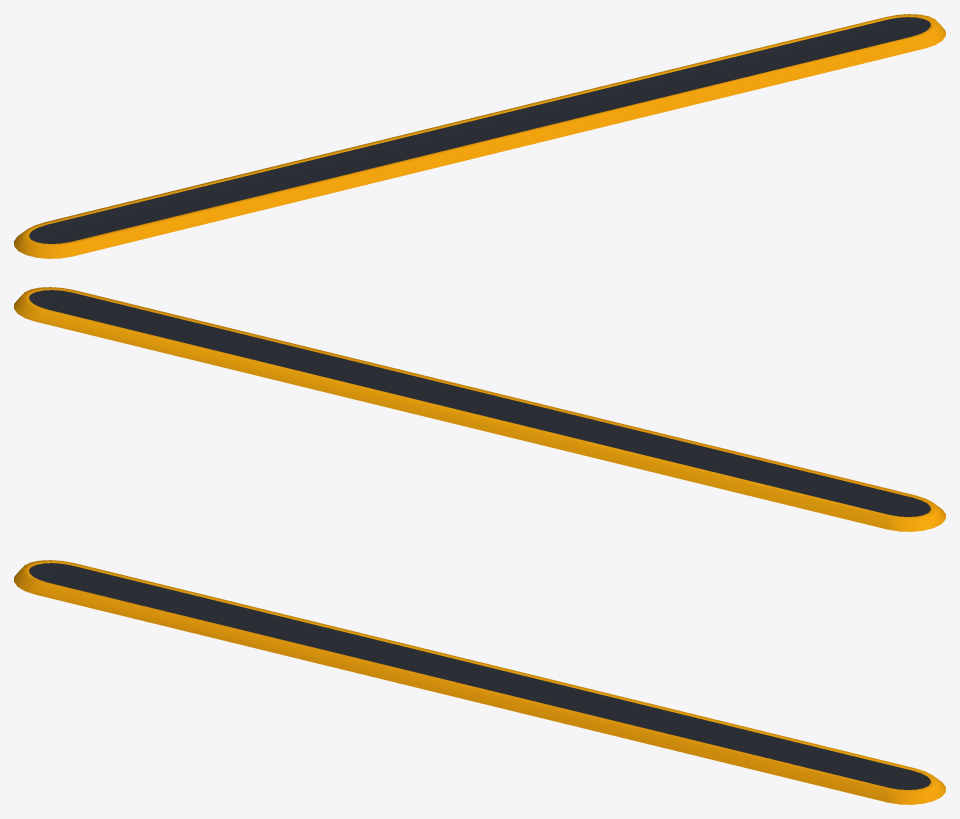
Rendered from saw_bottom.fbx.
The picture shows the model from 3 angles, top to bottom: view 1: azimuth 30°, elevation 25°; view 2: azimuth 150°, elevation 25°; view 3: azimuth 330°, elevation 25°; orthographic projection.
Visible parts, largest first — view 1: saw_bottom; view 2: saw_bottom; view 3: saw_bottom.
Boxes of the visible parts, x1,y1,x2,y2 form: saw_bottom: [14, 14, 945, 258]; saw_bottom: [14, 287, 945, 531]; saw_bottom: [14, 560, 945, 804].
Size of the model in its own units: 203 by 1.72 by 14.5.
